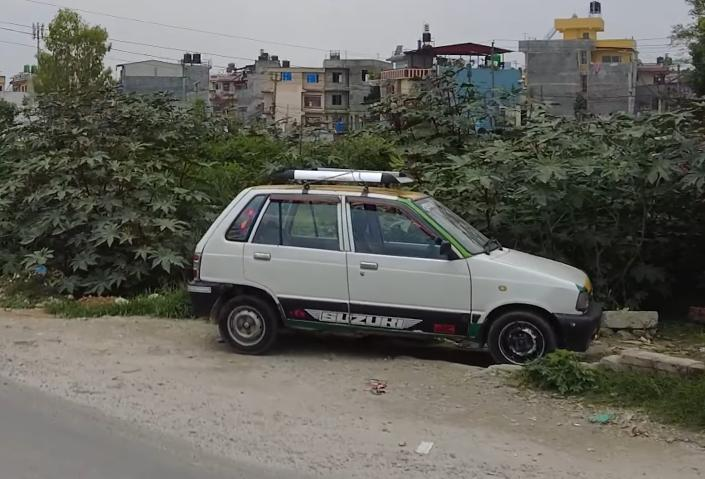taxi: (186, 163, 606, 371)
